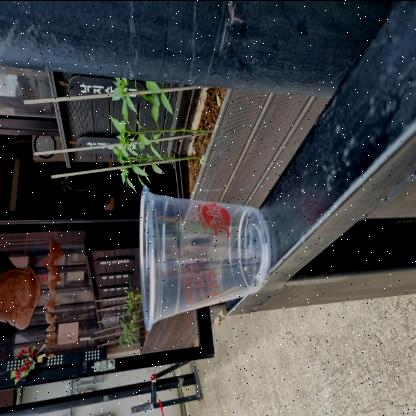Others: (134, 176, 272, 336)
